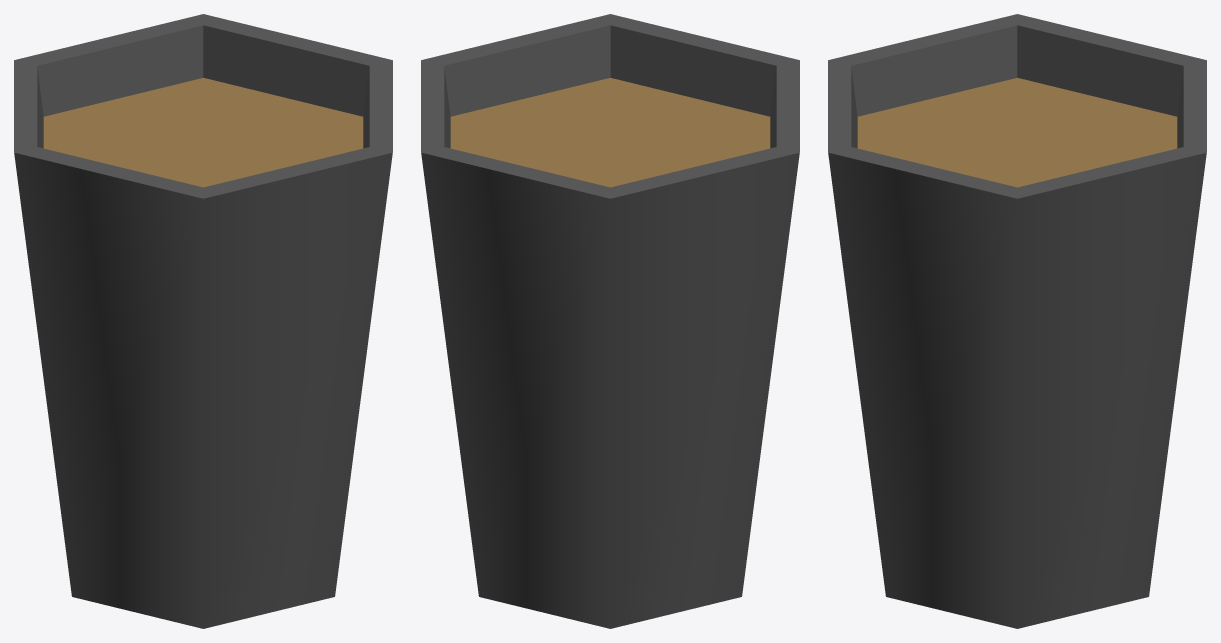
File: Itr_Obj_Flowerpot2_Base_03.FBX
3 renders of one model, left to right at view 1: azimuth 30°, elevation 25°; view 2: azimuth 150°, elevation 25°; view 3: azimuth 270°, elevation 25°, orthographic.
Parts seen in each view (by area): view 1: Itr_Obj_Flowerpot2_Base_03; view 2: Itr_Obj_Flowerpot2_Base_03; view 3: Itr_Obj_Flowerpot2_Base_03.
Boxes of the visible parts, left/top/right/bottom form: Itr_Obj_Flowerpot2_Base_03: left=14, top=14, right=392, bottom=628; Itr_Obj_Flowerpot2_Base_03: left=421, top=14, right=799, bottom=628; Itr_Obj_Flowerpot2_Base_03: left=828, top=14, right=1206, bottom=628.
Size of the model in its own units: 24 by 27.76 by 20.78.
